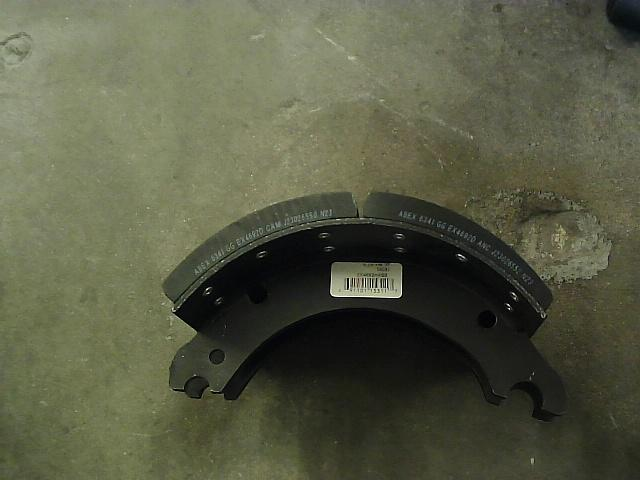brake-shoes: (159, 188, 568, 426)
